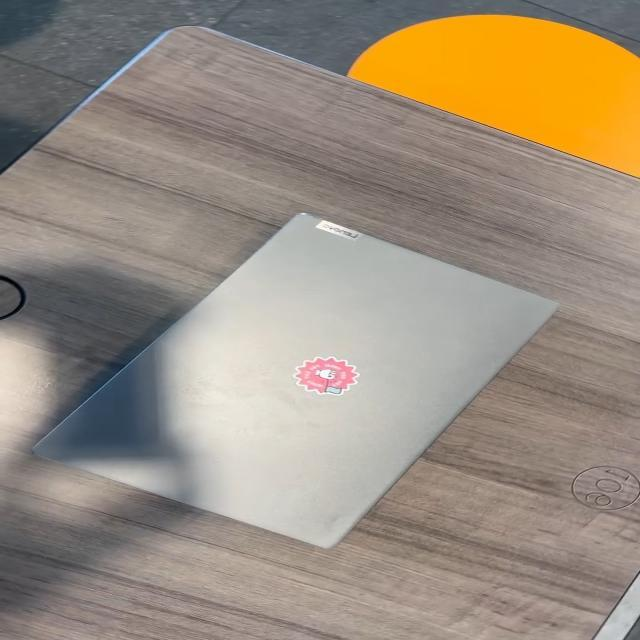laptop: (30, 209, 559, 549)
